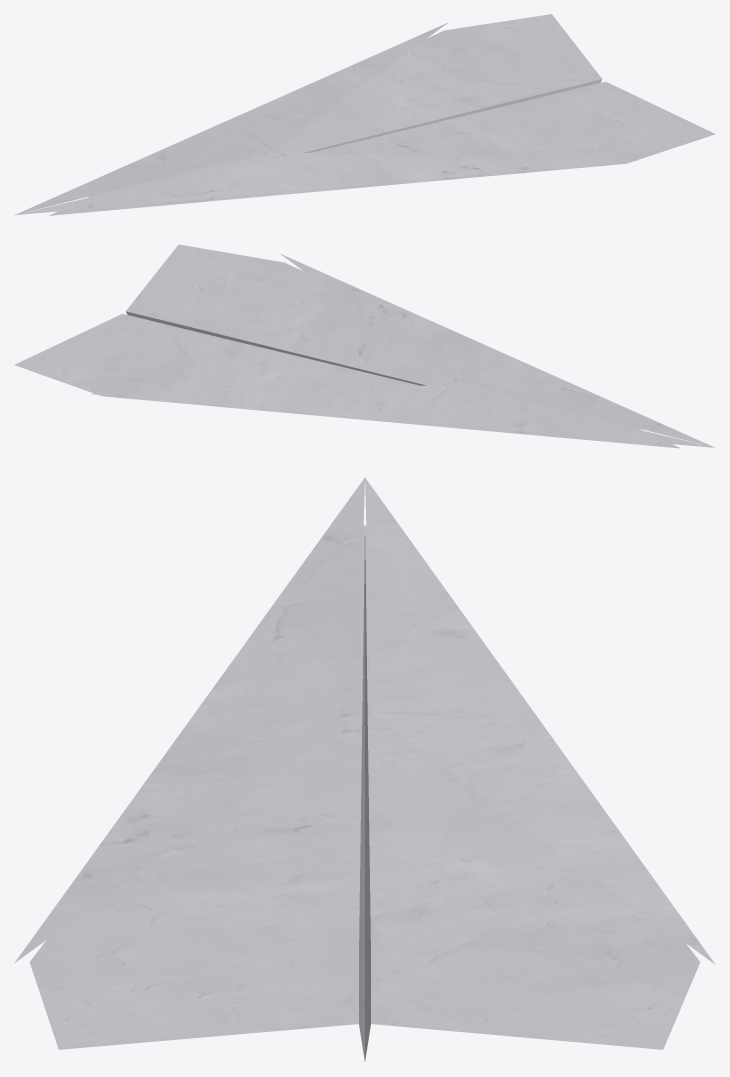
The model's file is DartMeshImport.glb.
3 views of the same model, one above another, from view 1: azimuth 30°, elevation 25°; view 2: azimuth 150°, elevation 25°; view 3: azimuth 270°, elevation 25° (orthographic). The views are drawn at different scales.
Parts seen in each view (by area): view 1: Plane.004; view 2: Plane.004; view 3: Plane.004.
Boxes of the visible parts, left/top/right/bottom form: Plane.004: left=14, top=14, right=715, bottom=215; Plane.004: left=14, top=244, right=715, bottom=448; Plane.004: left=14, top=478, right=715, bottom=1061.
Bounding box in the file's own units: 2.16 × 0.1349 × 1.15.
1 material, 1 textured.
